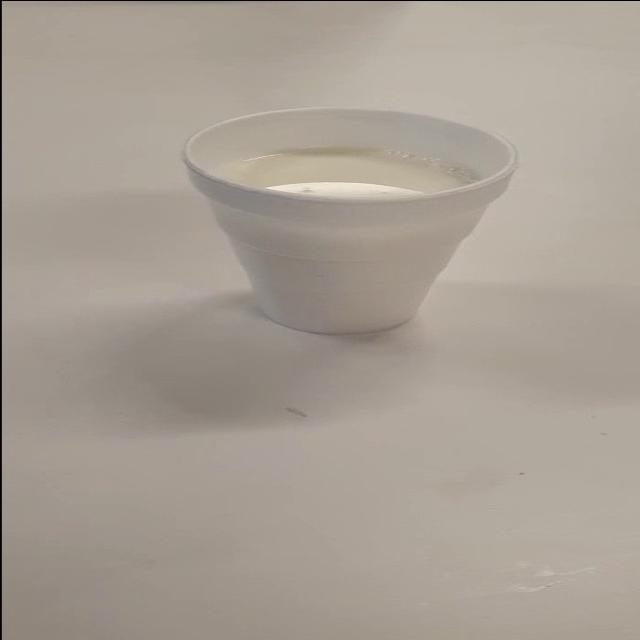Milk: (151, 89, 560, 362)
